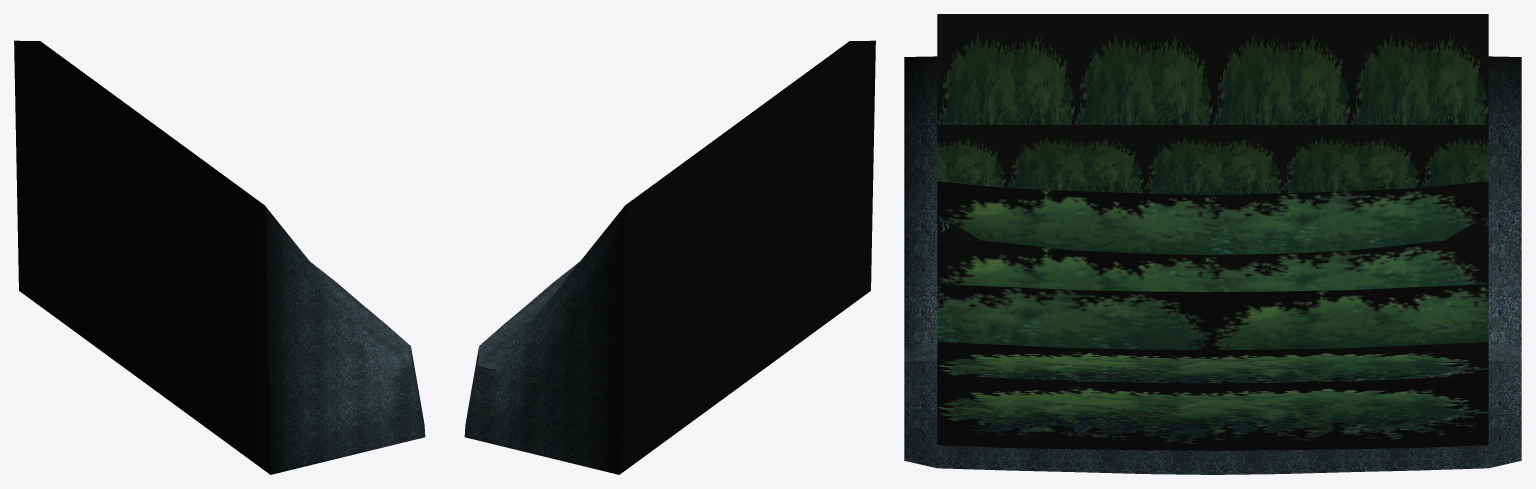
Rendered from K_R_MOUNT.glb.
The picture shows the model from 3 angles, left to right: view 1: azimuth 30°, elevation 25°; view 2: azimuth 150°, elevation 25°; view 3: azimuth 270°, elevation 25°; orthographic projection. The views are drawn at different scales.
Parts seen in each view (by area): view 1: obj11; view 2: obj11; view 3: obj11.
Part boxes in pixels (bbox=[...]): obj11: bbox=[14, 40, 425, 474]; obj11: bbox=[464, 40, 875, 474]; obj11: bbox=[904, 14, 1521, 474].
Size of the model in its own units: 24.2 by 35.28 by 56.
Materials: 3 (3 with a texture image).
